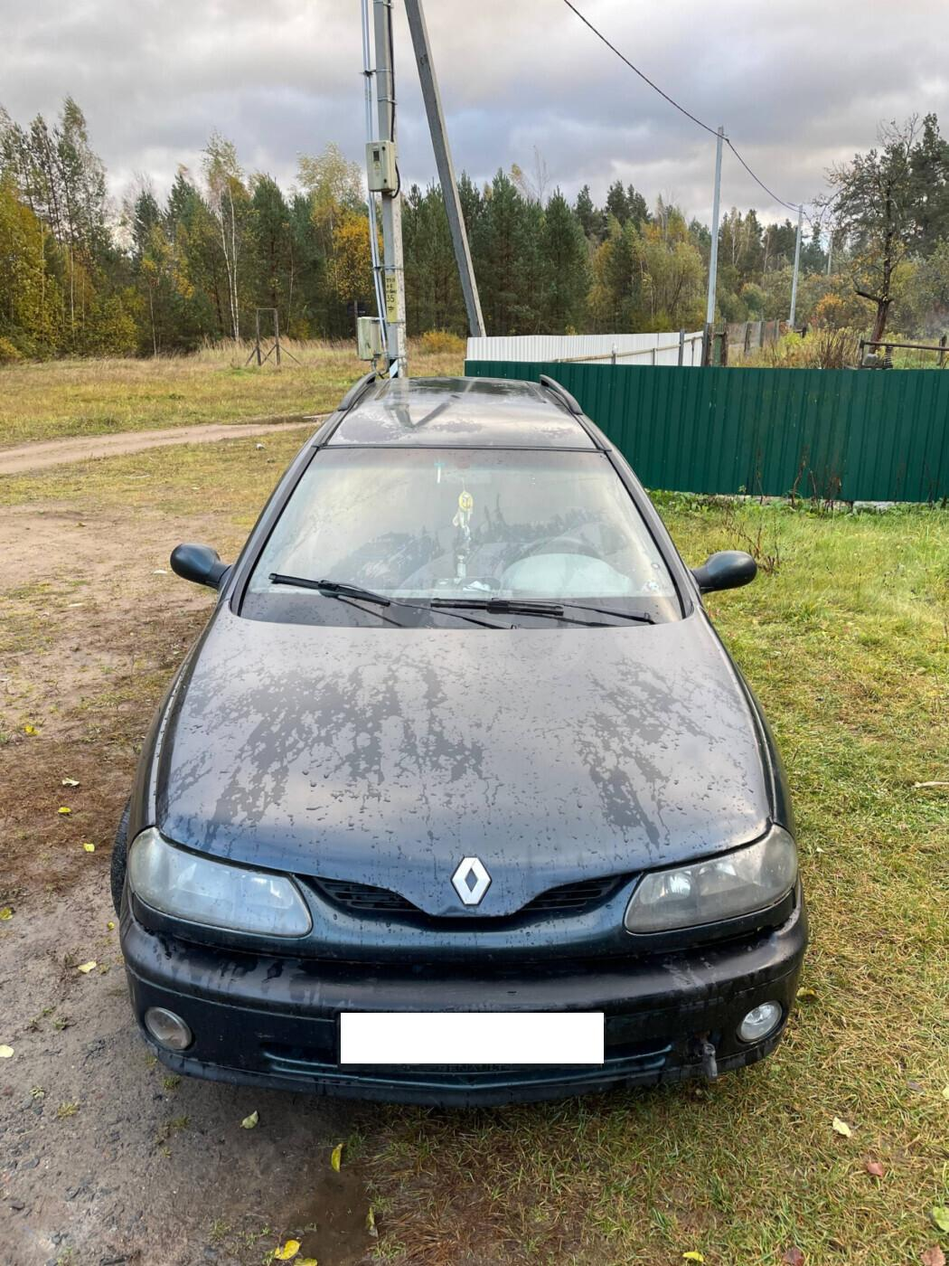Laguna_1998-2001: (110, 371, 813, 1116)
